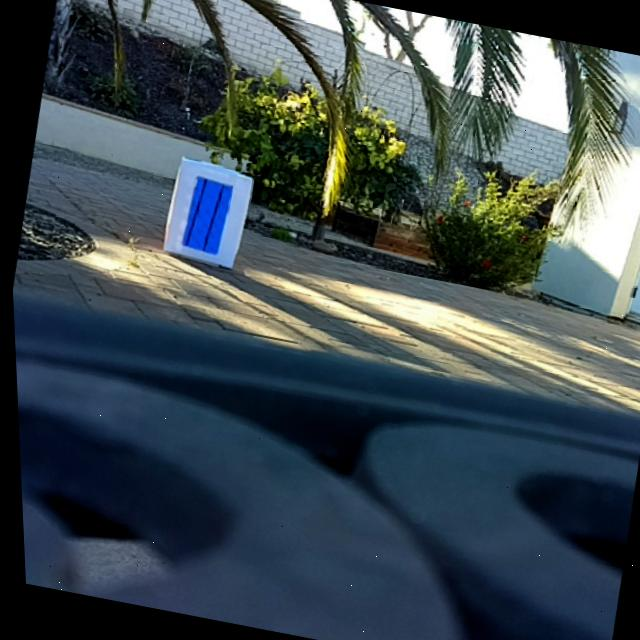led: (176, 176, 234, 256)
